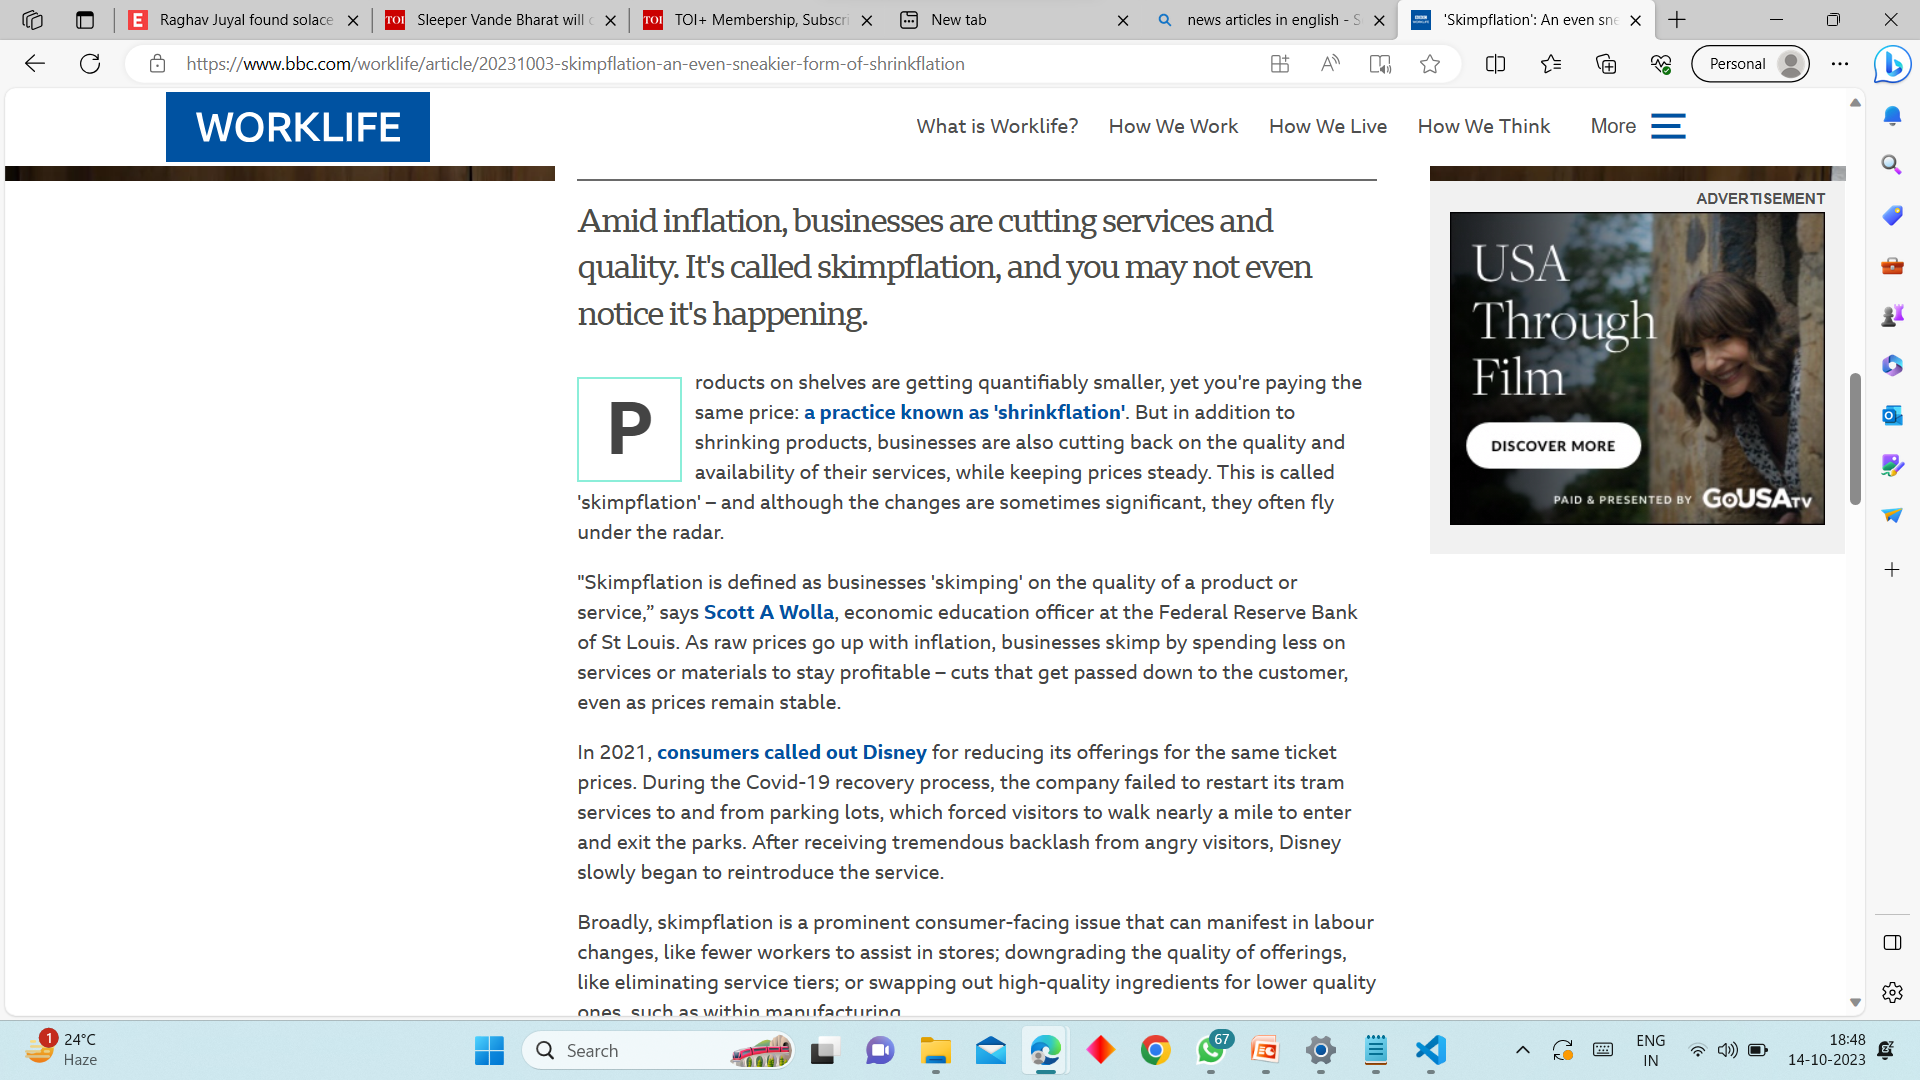Image: (1424, 164, 1851, 566), (154, 92, 443, 165), (1650, 105, 1693, 165)
Paragraph: (572, 360, 1366, 534), (570, 733, 1378, 897), (570, 555, 1378, 717), (576, 187, 1341, 335), (562, 903, 1393, 1018), (916, 103, 1091, 158), (1259, 109, 1407, 157), (1106, 109, 1245, 157), (1418, 109, 1561, 154), (1590, 103, 1646, 150)
